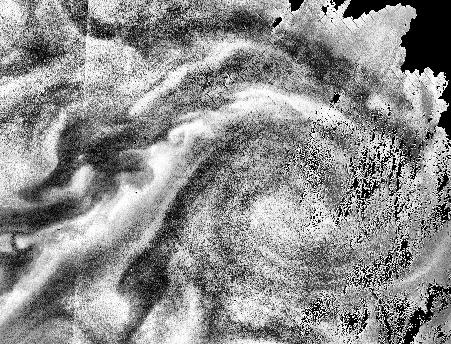AE: (196, 98, 384, 303)
